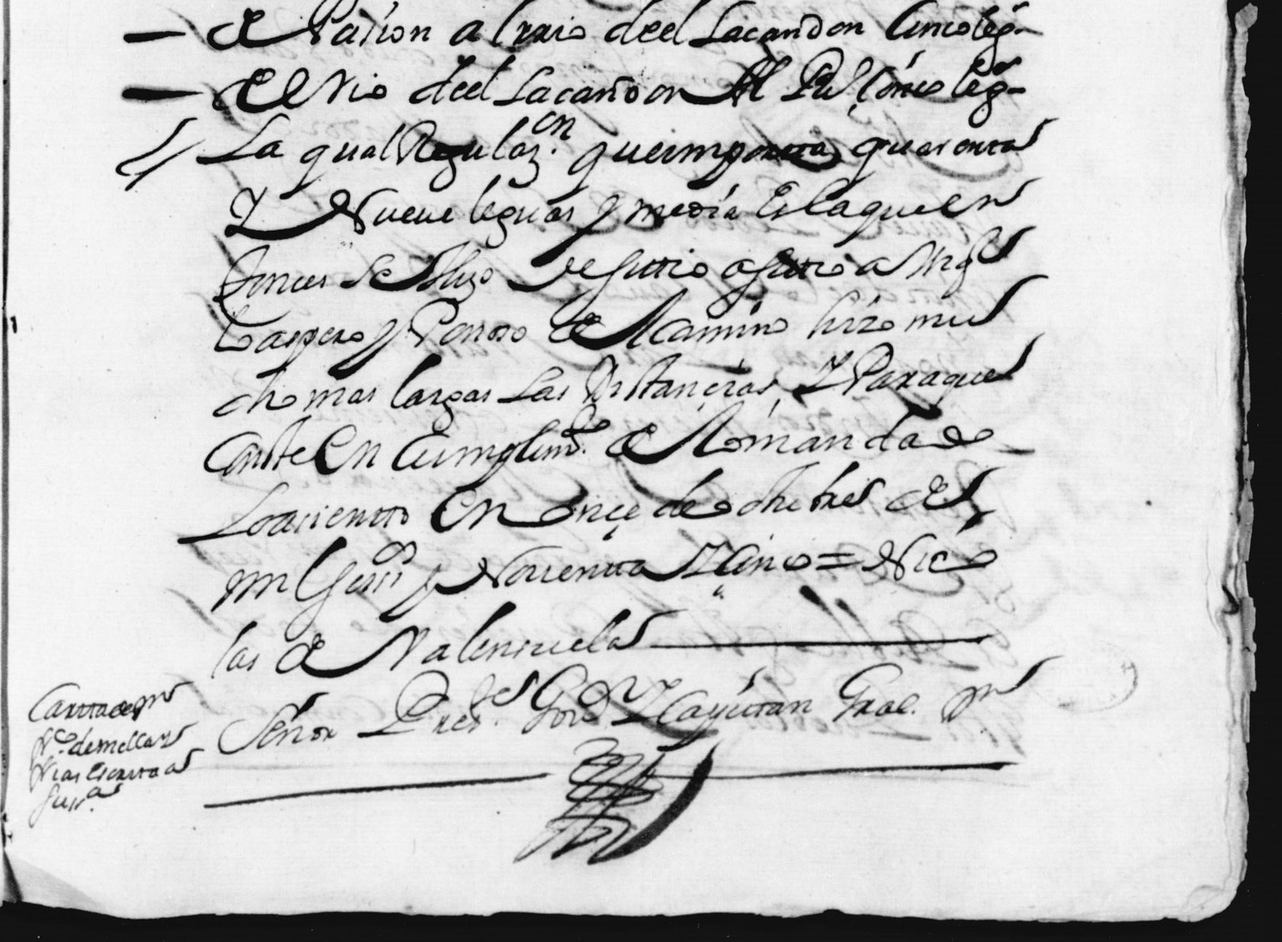lacandon: (493, 65, 731, 105), (688, 0, 864, 48)
